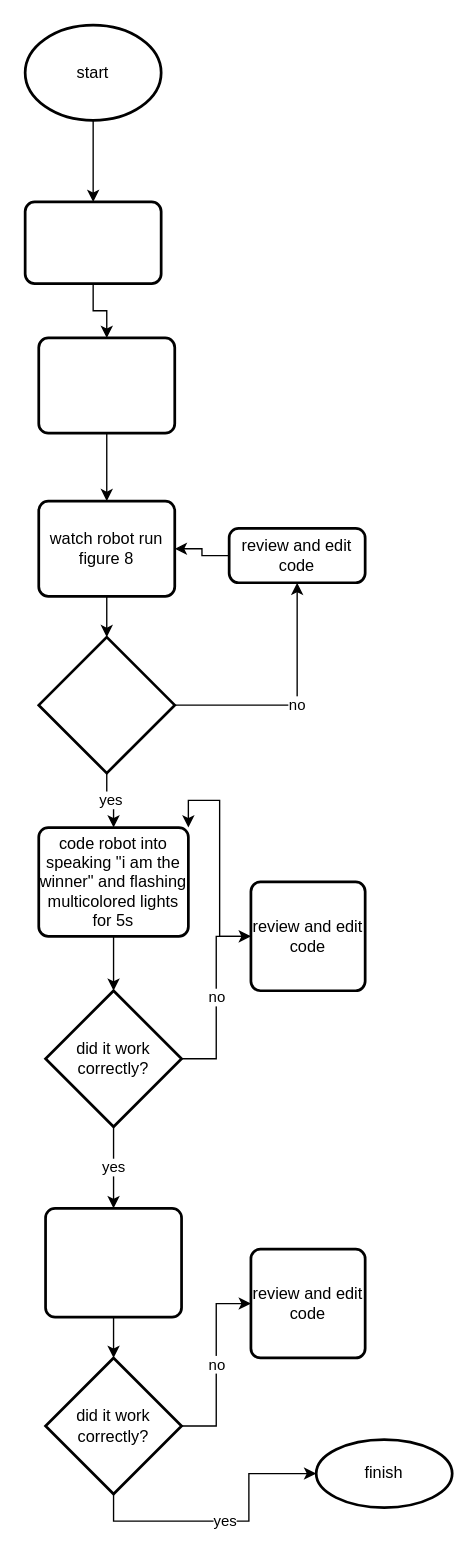
Some shapes in this 476 by 1556 pixel diagram are drawn without their labels. Here are the shapes that lost their labels. From the top down, the box of each, then its label:
(23, 200, 162, 284): look at process and requirements
(37, 336, 175, 434): code robot into running figure 8
(37, 635, 175, 774): did it work?
(44, 1206, 182, 1318): put both procedures together
